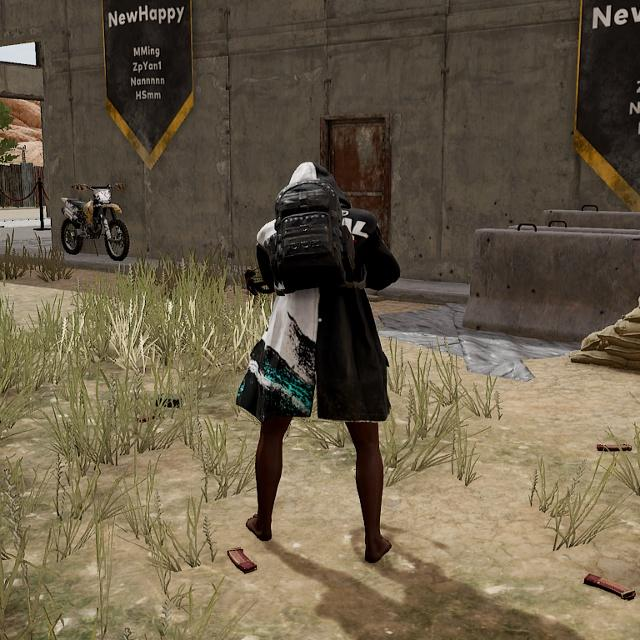head: (276, 154, 364, 224)
people: (232, 145, 407, 569)
